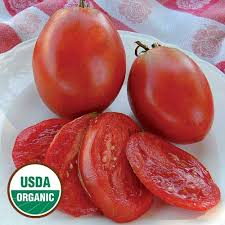tomato: (28, 2, 120, 104), (125, 48, 218, 146)
